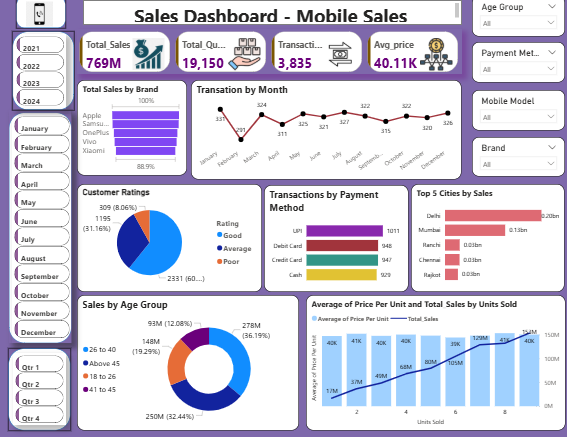

What the dashboard file says about the page in this screenshot:
{"tool":"powerbi","page":{"name":"Sales Dashboard","canvas":[1165,890],"ordinal":0},"visuals":[{"type":"shape","box":[51.2,0,100,65],"z":0},{"type":"image","box":[26.2,5,145,60],"z":1000},{"type":"shape","box":[43.8,70,125,158.8],"z":2000},{"type":"shape","box":[38.8,228.8,125,466.2],"z":3000},{"type":"cardVisual","fields":{"Data":["Sales Data.Total_Sales","Sales Data.Total_Quantity","Sales Data.Transaction","Sales Data.Avg_price"]},"box":[173.8,65,770,91.2],"z":4000},{"type":"slicer","fields":{"Values":["Sales Data.Mobile Model"]},"box":[963.8,187.5,186.2,81.2],"z":5000},{"type":"slicer","fields":{"Values":["Sales Data.Payment Method"]},"box":[963.8,91.2,186.2,81.2],"z":6000},{"type":"slicer","fields":{"Values":["Sales Data.Brand"]},"box":[963.8,281.2,186.2,78.8],"z":7000},{"type":"advancedSlicerVisual","fields":{"Values":["Calender_table.Date.Variation.Date Hierarchy.Year"]},"box":[48.8,75,105,151.2],"z":8000},{"type":"pieChart","title":"Customer Ratings","fields":{"Category":["Sales Data.Rating"],"Y":["CountNonNull(Sales Data.Customer Ratings)"]},"box":[174.3,375.7,370,215.7],"z":9000},{"type":"donutChart","title":"Sales by Age Group","fields":{"Y":["Sales Data.Total_Sales"],"Category":["Sales Data.Age Group"]},"box":[174.3,598.6,444.3,271.4],"z":10000},{"type":"barChart","title":"Transactions by Payment Method","fields":{"Category":["Sales Data.Payment Method"],"Y":["CountNonNull(Sales Data.Transaction ID)"]},"box":[548.6,377.1,288.6,214.3],"z":11000},{"type":"lineChart","title":"Transation by Month","fields":{"Y":["Sales Data.Transation_chart"],"Category":["Calender_table.Date.Variation.Date Hierarchy.Month"]},"box":[402.5,168.8,541.2,198.8],"z":12000},{"type":"funnel","title":"Total Sales by Brand","fields":{"Y":["Sales Data.Total_Sales"],"Category":["Sales Data.Brand"]},"box":[173.8,168.8,220,191.2],"z":13000},{"type":"clusteredBarChart","title":"Top 5 Cities by Sales","fields":{"Category":["Sales Data.City"],"Y":["Sum(Sales Data.Total_sale_graph)"]},"box":[842.9,375.7,307.1,215.7],"z":14000},{"type":"lineClusteredColumnComboChart","fields":{"Category":["Sales Data.Units Sold"],"Y":["Avg(Sales Data.Price Per Unit)"],"Y2":["Sales Data.Total_Sales"]},"box":[631.4,598.6,518.6,271.4],"z":15000},{"type":"textbox","box":[186.2,7.5,757.5,50],"z":16000},{"type":"slicer","fields":{"Values":["Sales Data.Age Group"]},"box":[963.8,0,186.2,81.2],"z":17000},{"type":"advancedSlicerVisual","fields":{"Values":["Calender_table.Date.Variation.Date Hierarchy.Month"]},"box":[43.8,236.2,120,458.8],"z":18000},{"type":"shape","box":[35.7,704.3,125.7,165.7],"z":19000},{"type":"advancedSlicerVisual","fields":{"Values":["Calender_table.Date.Variation.Date Hierarchy.Quarter"]},"box":[45,713.8,106.2,145],"z":20000}]}

Visuals, with their boxes in screenshot pixels (x1, y1, x2, y2), scaled from the page's 1165x890 canvas onto the 567x437 screenshot:
shape: <region>25, 0, 74, 32</region>
image: <region>13, 2, 83, 32</region>
shape: <region>21, 34, 82, 112</region>
shape: <region>19, 112, 80, 341</region>
cardVisual - Sales Data.Total_Sales x Sales Data.Total_Quantity: <region>85, 32, 459, 77</region>
slicer - Sales Data.Mobile Model: <region>469, 92, 560, 132</region>
slicer - Sales Data.Payment Method: <region>469, 45, 560, 85</region>
slicer - Sales Data.Brand: <region>469, 138, 560, 177</region>
advancedSlicerVisual - Calender_table.Date.Variation.Date Hierarchy.Year: <region>24, 37, 75, 111</region>
"Customer Ratings" pieChart: <region>85, 184, 265, 290</region>
"Sales by Age Group" donutChart: <region>85, 294, 301, 427</region>
"Transactions by Payment Method" barChart: <region>267, 185, 407, 290</region>
"Transation by Month" lineChart: <region>196, 83, 459, 180</region>
"Total Sales by Brand" funnel: <region>85, 83, 192, 177</region>
"Top 5 Cities by Sales" clusteredBarChart: <region>410, 184, 560, 290</region>
lineClusteredColumnComboChart - Sales Data.Units Sold x Avg(Sales Data.Price Per Unit): <region>307, 294, 560, 427</region>
textbox: <region>91, 4, 459, 28</region>
slicer - Sales Data.Age Group: <region>469, 0, 560, 40</region>
advancedSlicerVisual - Calender_table.Date.Variation.Date Hierarchy.Month: <region>21, 116, 80, 341</region>
shape: <region>17, 346, 79, 427</region>
advancedSlicerVisual - Calender_table.Date.Variation.Date Hierarchy.Quarter: <region>22, 350, 74, 422</region>
